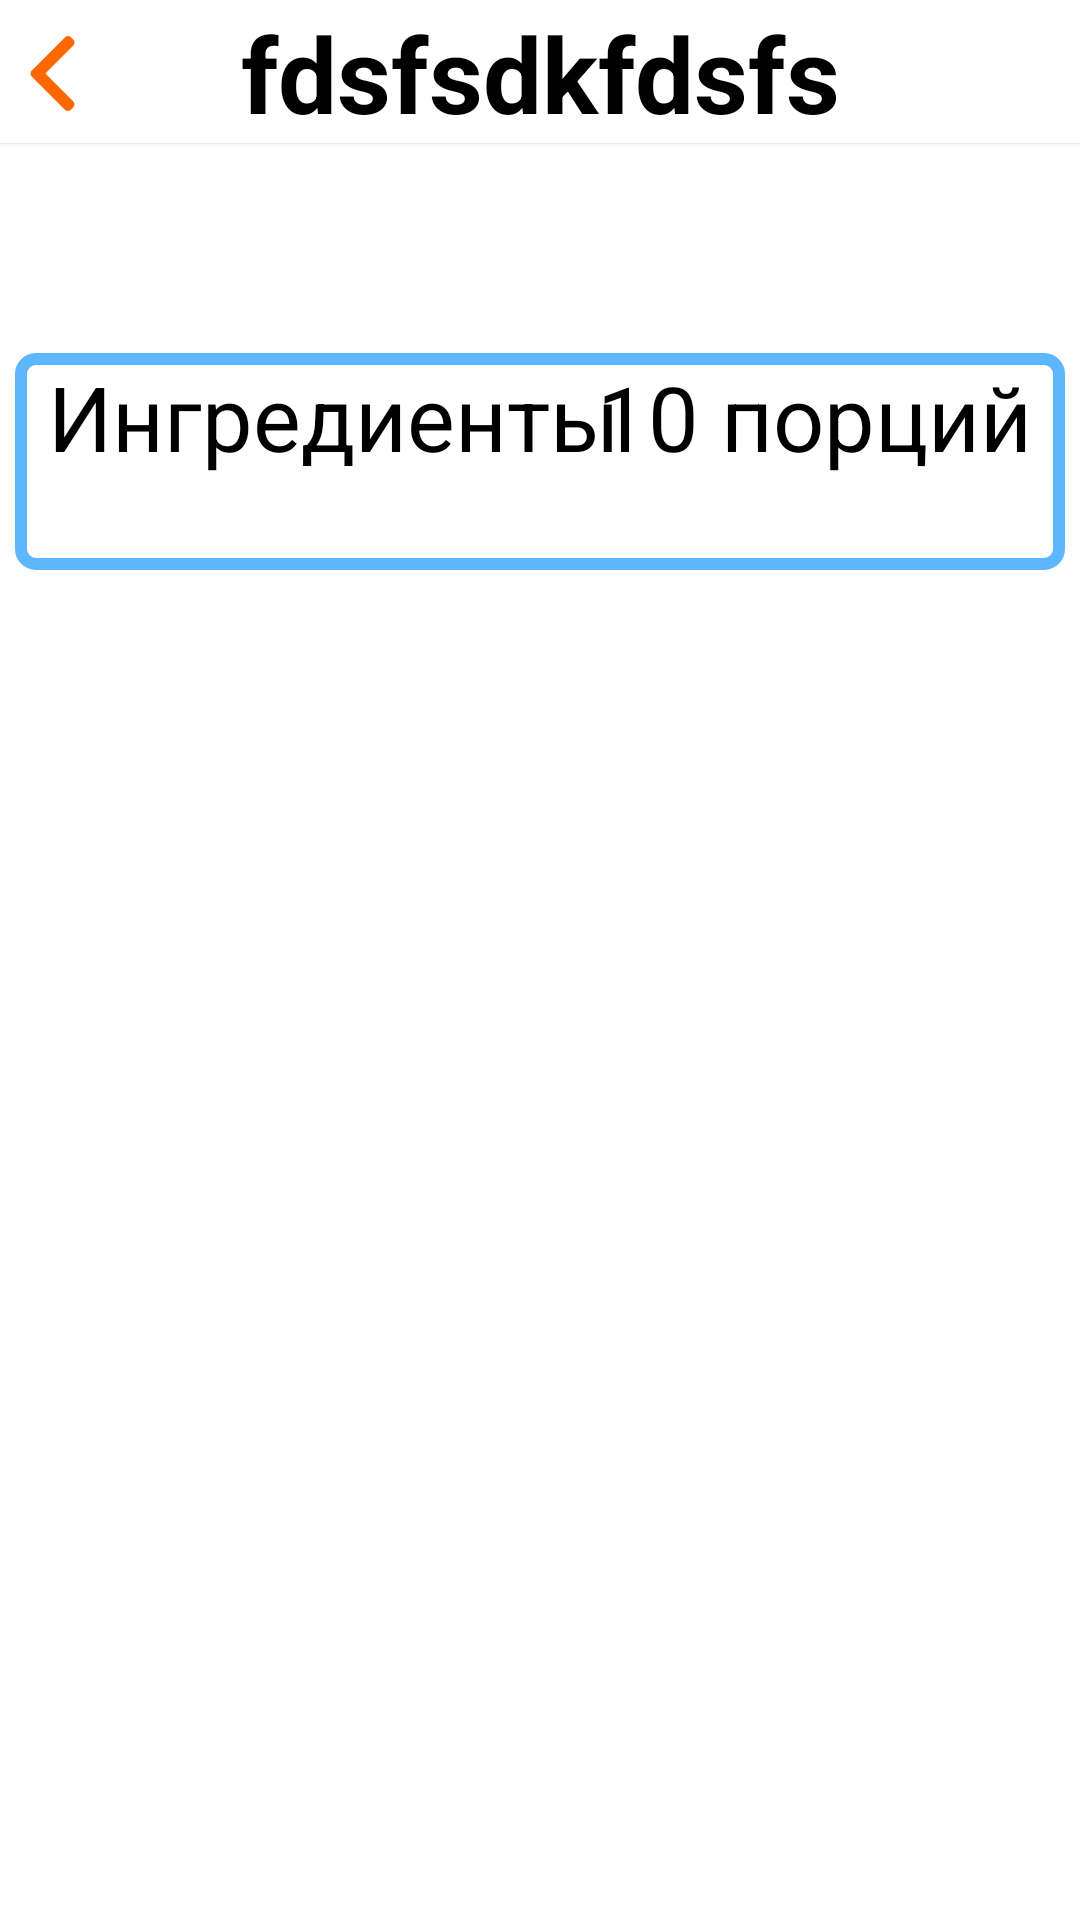

Where icons sit on this 1080px×1920px app screen, as bbox(x1, y1, x2, y2):
left arrow: bbox(30, 36, 75, 111)
